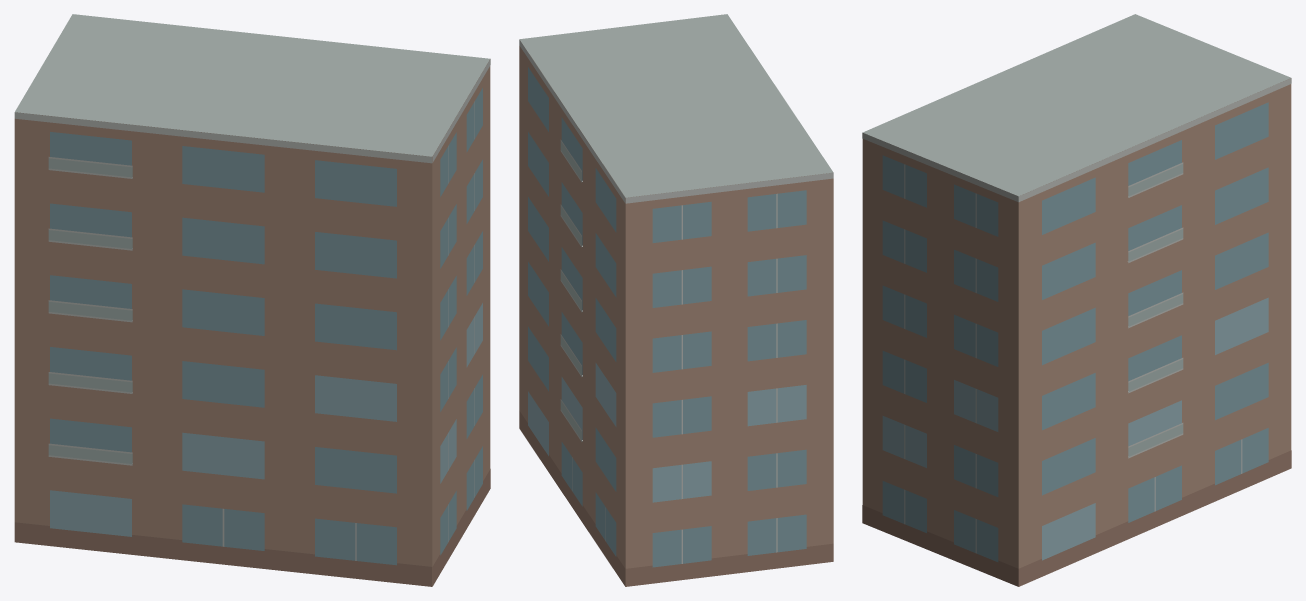
Rendered from survey-upis-32845283.glb.
3 views of the same model, side by side, from view 1: azimuth 30°, elevation 25°; view 2: azimuth 150°, elevation 25°; view 3: azimuth 270°, elevation 25° (orthographic). The views are drawn at different scales.
Parts seen in each view (by area): view 1: survey-upis-32845283.tmp; view 2: survey-upis-32845283.tmp; view 3: survey-upis-32845283.tmp.
Part boxes in pixels (bbox=[...]): survey-upis-32845283.tmp: bbox=[14, 14, 490, 586]; survey-upis-32845283.tmp: bbox=[519, 14, 833, 586]; survey-upis-32845283.tmp: bbox=[862, 14, 1291, 586].
Size of the model in its own units: 15.93 by 15.9 by 15.84.
